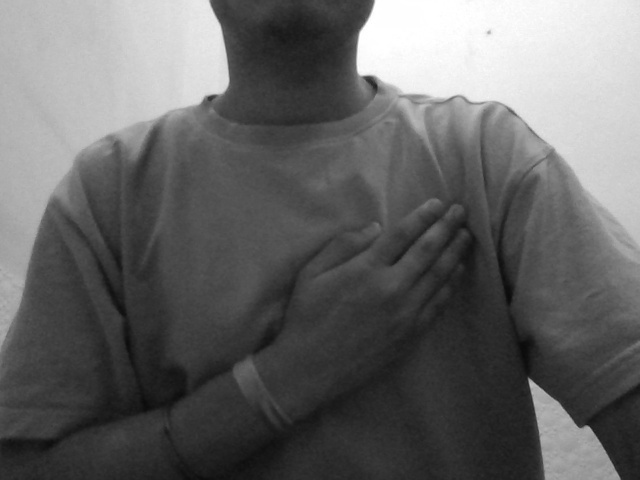Sorry: (260, 192, 513, 414)
